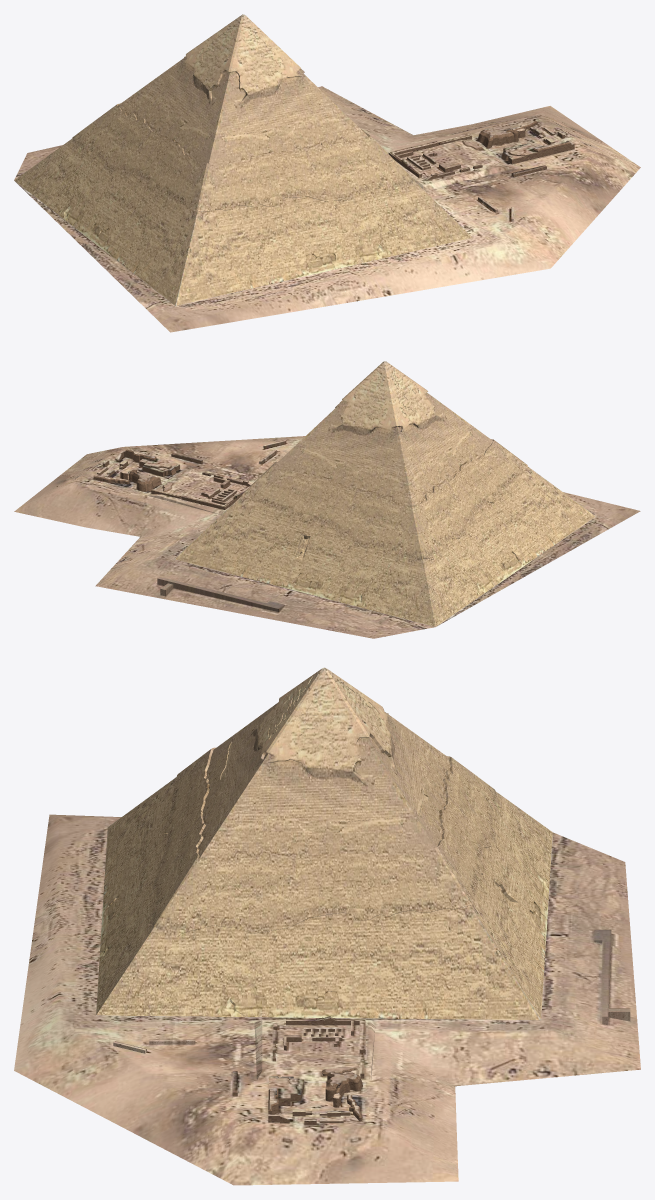
The model's file is Pyramid of Khafre.FBX.
3 views of the same model, one above another, from view 1: azimuth 30°, elevation 25°; view 2: azimuth 150°, elevation 25°; view 3: azimuth 270°, elevation 25° (orthographic). The views are drawn at different scales.
Visible parts, largest first — view 1: Component_1_1_2, Group1, Component_1, Group3, Group4, Group5; view 2: Component_2, Group1, Component_1, Group3, Group4, Group5; view 3: Group1, Component_1, Component_2, Component_1_1_2, Group3, Group4, Group5.
Boxes of the visible parts, x1,y1,x2,y2 form: Component_1_1_2: (175, 16, 472, 305); Group1: (14, 86, 640, 332); Component_1: (14, 15, 241, 305); Group3: (396, 121, 574, 190); Group4: (388, 134, 483, 180); Group5: (73, 14, 414, 210); Component_2: (174, 362, 435, 626); Group1: (14, 436, 640, 638); Component_1: (386, 362, 595, 626); Group3: (93, 449, 253, 514); Group4: (151, 471, 251, 509); Group5: (242, 361, 526, 558); Group1: (14, 814, 640, 1185); Component_1: (96, 670, 540, 1020); Component_2: (327, 669, 552, 1019); Component_1_1_2: (96, 669, 321, 1014); Group3: (232, 1020, 375, 1123); Group4: (272, 1016, 365, 1078); Group5: (154, 667, 471, 925).
Bounding box in the file's own units: 15651 × 5968 × 11947.
Materials: 7 (6 with a texture image).
